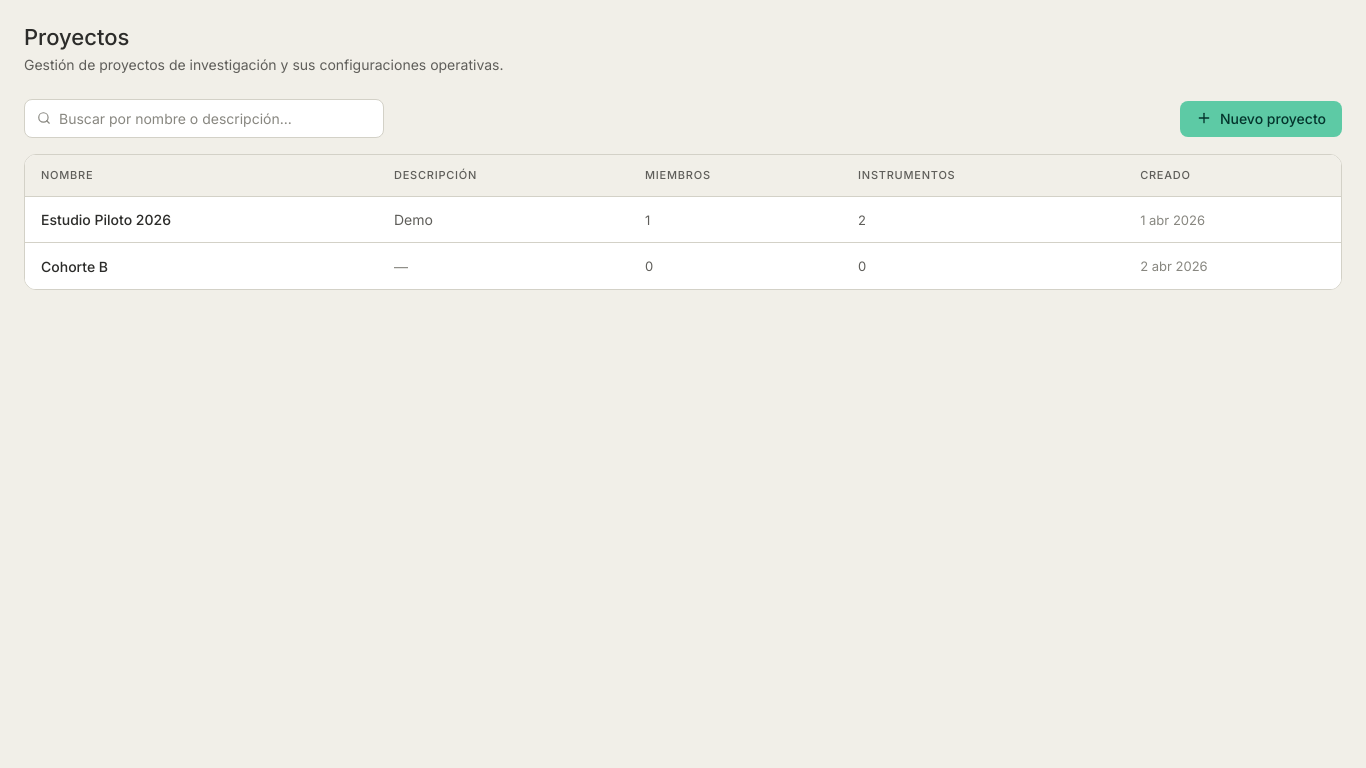
ProjectsPage › botón "Nuevo proyecto" abre modal
Expected: the text "Estudio Piloto 2026" is shown, [41,211,171,228]
Click the button "Nuevo proyecto" at (1261, 119), box [1180,101,1342,137]
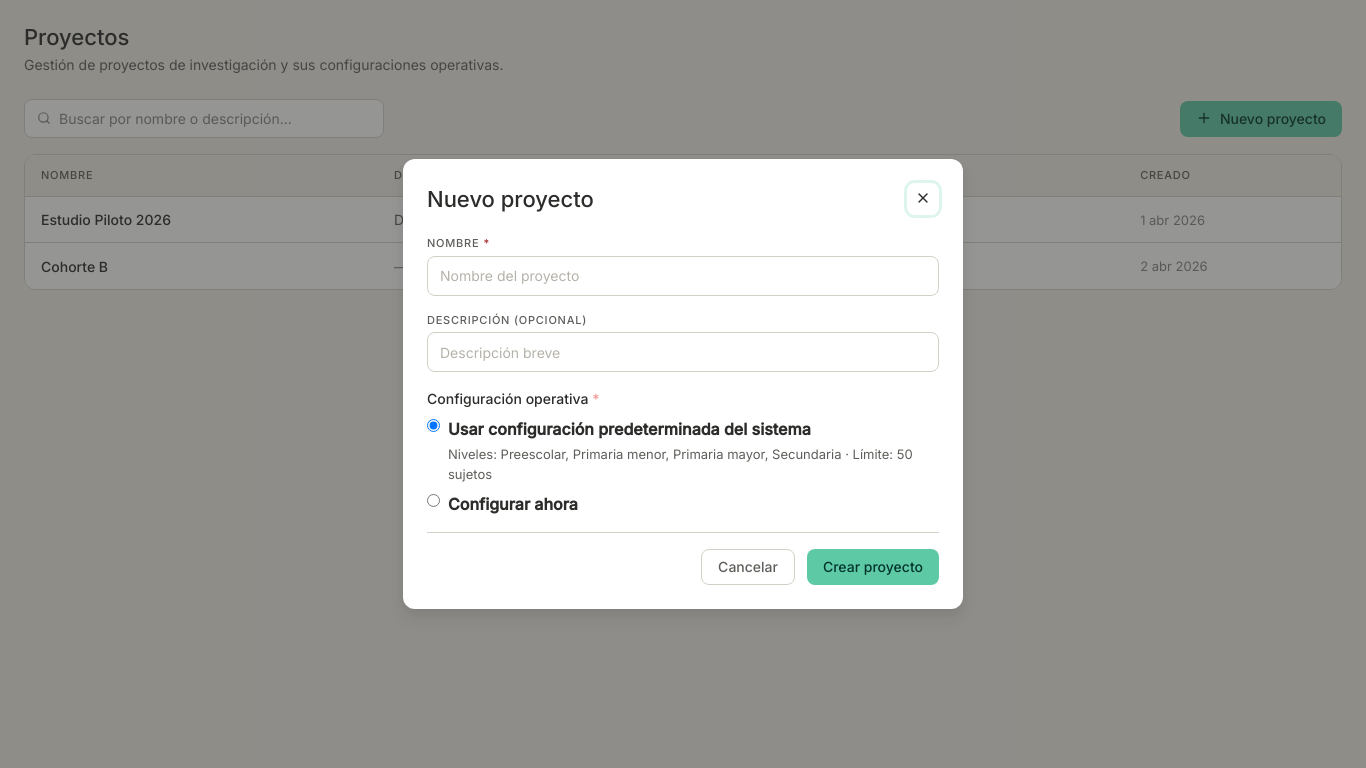
Now the dialog is shown, box [403,159,963,609]
Now the field labelled "Nombre*" is shown, box [427,256,939,296]
